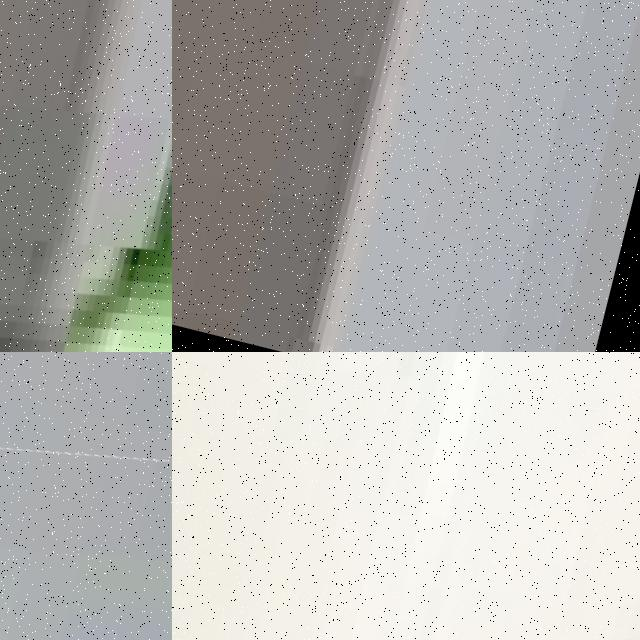0: (0, 0, 172, 352), (0, 395, 172, 640)
drone: (172, 352, 640, 640)
